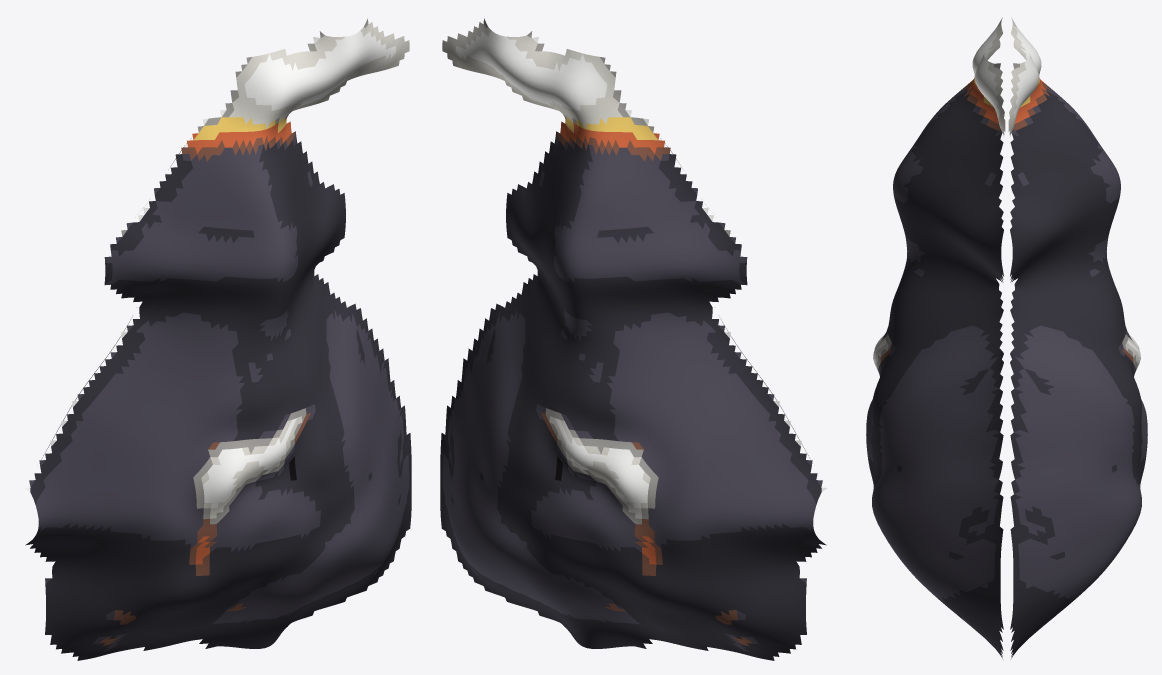
Rendered from oribioass.glb.
3 views of the same model, side by side, from view 1: azimuth 30°, elevation 25°; view 2: azimuth 150°, elevation 25°; view 3: azimuth 270°, elevation 25° (orthographic). The views are drawn at different scales.
Visible parts, largest first — view 1: oribioass; view 2: oribioass; view 3: oribioass.
Boxes of the visible parts, box(x1,y1,x2,y2) form: oribioass: box(25, 18, 411, 660); oribioass: box(440, 18, 826, 660); oribioass: box(866, 17, 1147, 658).
Size of the model in its own units: 741 by 1080 by 448.
